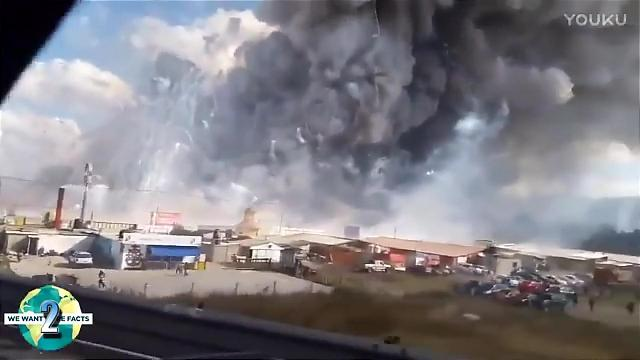smoke: (138, 20, 626, 110), (91, 111, 409, 221), (470, 112, 636, 170), (3, 107, 79, 177), (277, 2, 561, 20), (28, 62, 130, 106), (413, 113, 459, 165)
